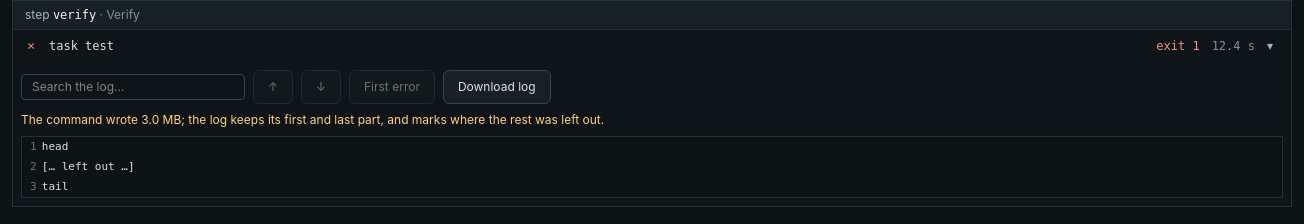
Test case: ChecksView › says when output was cut and saves the whole kept log
Expected: the text "wrote 3.0 MB" is shown, [21,112,604,127]
Step 1. Click the button "Download log" → coordinates (497, 87), box [443,70,551,104]
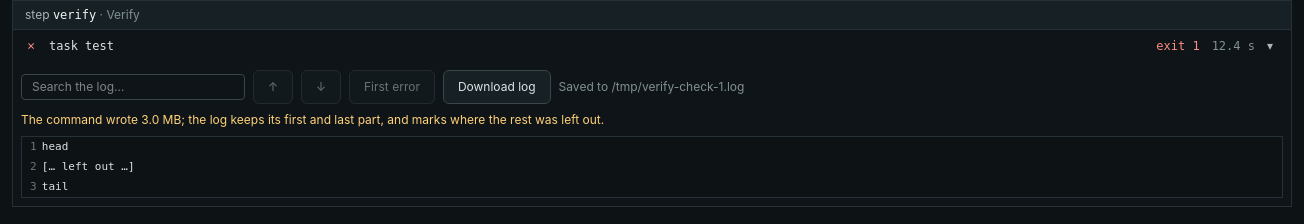
Result: the text "Saved to /tmp/verify-check-1.log" is shown at [559,79,744,95]
